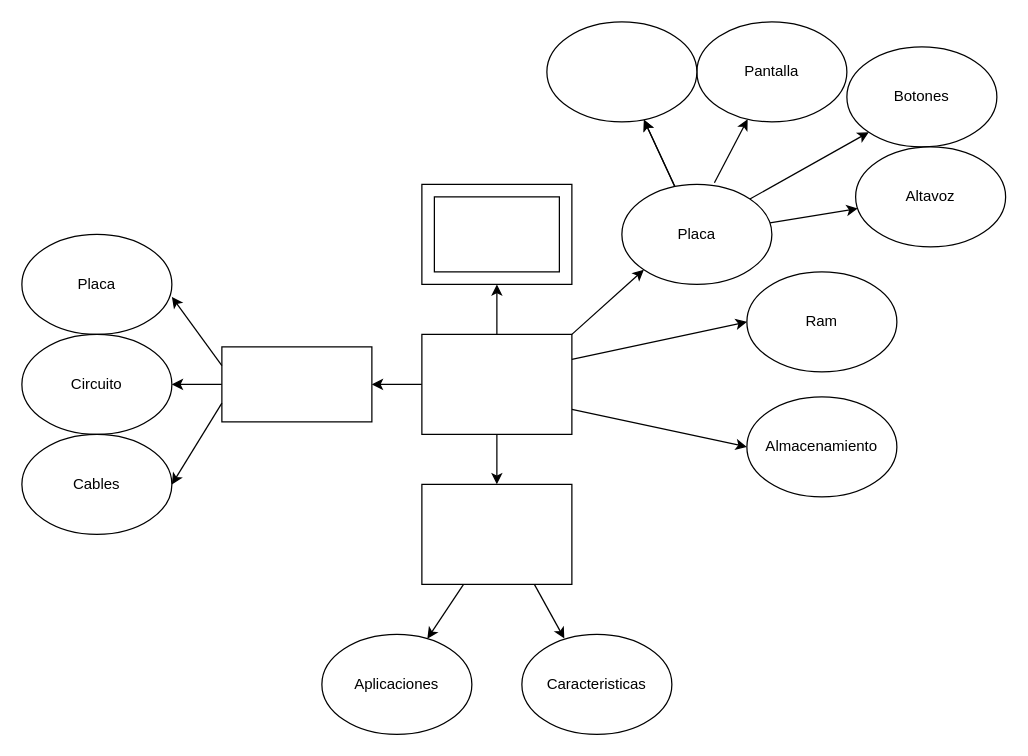
The diagram is 1028 pixels wide and 756 high, and some of its shapes have lost their labels. The shapes that lost their labels are listed below. From the top down, each one's centre as x and y in pixels, then its label:
At (x=621, y=71): "Pin de Carga".
At (x=496, y=234): "Modelo".
At (x=296, y=384): "Cargador".
At (x=496, y=383): "Telefono".
At (x=496, y=533): "SO".
